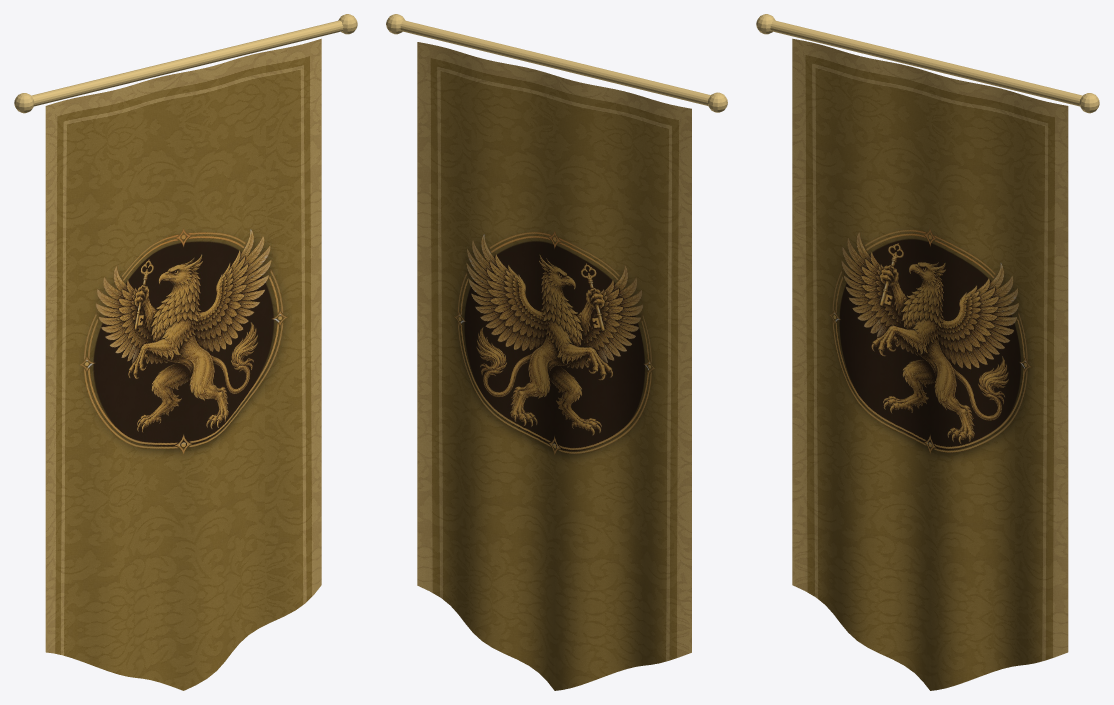
The model's file is banner_h2.glb.
3 views of the same model, side by side, from view 1: azimuth 30°, elevation 25°; view 2: azimuth 150°, elevation 25°; view 3: azimuth 330°, elevation 25° (orthographic).
Parts seen in each view (by area): view 1: banner_h2; view 2: banner_h2; view 3: banner_h2.
Part boxes in pixels (<box>): banner_h2: <box>14,14,357,690</box>; banner_h2: <box>386,14,727,690</box>; banner_h2: <box>756,14,1099,690</box>.
Size of the model in its own units: 1.73 by 3.1 by 0.1.
Materials: 2 (1 with a texture image).
